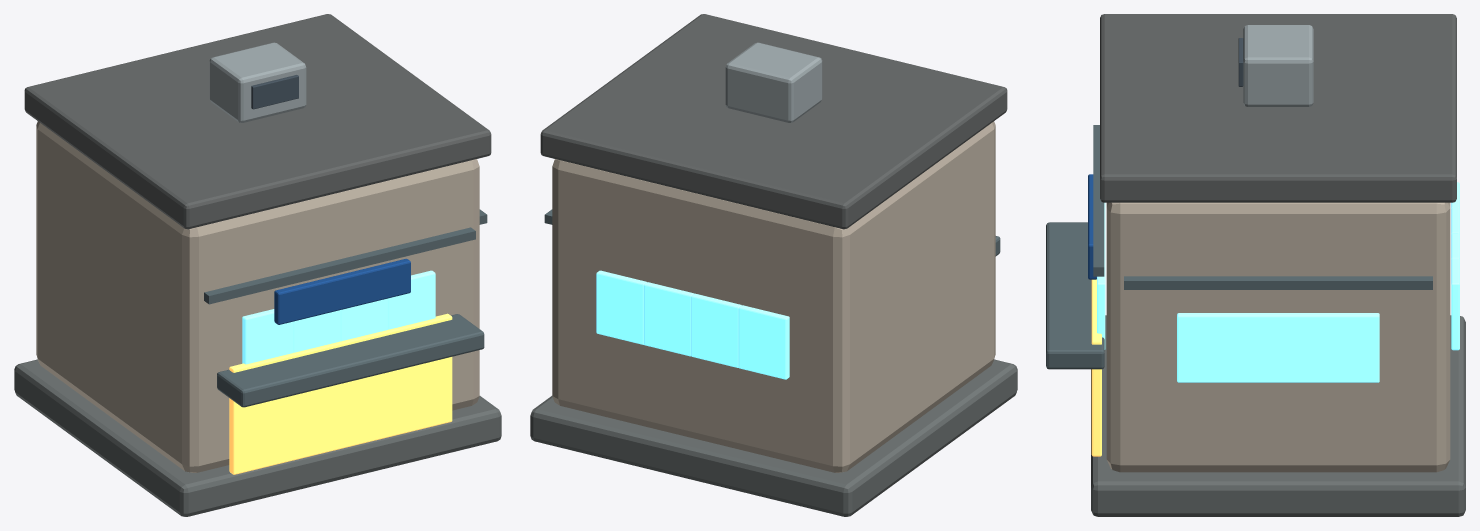
The model's file is commercial_cafe.glb.
The picture shows the model from 3 angles, left to right: view 1: azimuth 30°, elevation 25°; view 2: azimuth 150°, elevation 25°; view 3: azimuth 270°, elevation 25°; orthographic projection. The views are drawn at different scales.
Parts seen in each view (by area): view 1: main_massing, roof_slab, foundation, storefront_glazing, storefront_awning, hvac_unit, shop_sign, facade_band_front, front_window, front_window.003, front_window.001, front_window.002 (+1 smaller); view 2: main_massing, roof_slab, foundation, hvac_unit, rear_window, rear_window.002, rear_window.003, rear_window.001; view 3: main_massing, roof_slab, foundation, storefront_awning, hvac_unit, facade_band_side, side_window, side_window.003, side_window.002, side_window.001, facade_band_front, storefront_glazing (+3 smaller).
Boxes of the visible parts, box(x1,y1,x2,y2) form: main_massing: box(36, 121, 479, 472); roof_slab: box(24, 14, 491, 229); foundation: box(14, 359, 501, 516); storefront_glazing: box(229, 313, 452, 474); storefront_awning: box(217, 314, 484, 407); hvac_unit: box(209, 42, 306, 122); shop_sign: box(274, 258, 410, 324); facade_band_front: box(204, 227, 475, 304); front_window: box(242, 309, 293, 364); front_window.003: box(388, 270, 435, 329); front_window.001: box(293, 310, 340, 352); front_window.002: box(340, 298, 387, 341); main_massing: box(552, 121, 995, 472); roof_slab: box(540, 14, 1007, 229); foundation: box(530, 359, 1017, 516); hvac_unit: box(725, 42, 822, 122); rear_window: box(738, 305, 789, 379); rear_window.002: box(644, 282, 694, 356); rear_window.003: box(596, 270, 646, 344); rear_window.001: box(691, 293, 741, 367); main_massing: box(1106, 202, 1450, 472); roof_slab: box(1100, 14, 1456, 202); foundation: box(1091, 315, 1465, 516); storefront_awning: box(1046, 222, 1104, 369); hvac_unit: box(1243, 25, 1313, 106); facade_band_side: box(1124, 276, 1432, 289); side_window: box(1328, 313, 1379, 382); side_window.003: box(1177, 313, 1228, 382); side_window.002: box(1228, 313, 1278, 382); side_window.001: box(1278, 313, 1328, 382); facade_band_front: box(1093, 125, 1104, 276); storefront_glazing: box(1091, 279, 1101, 456).
Bounding box in the file's own units: 1.04 × 1.11 × 1.07.
